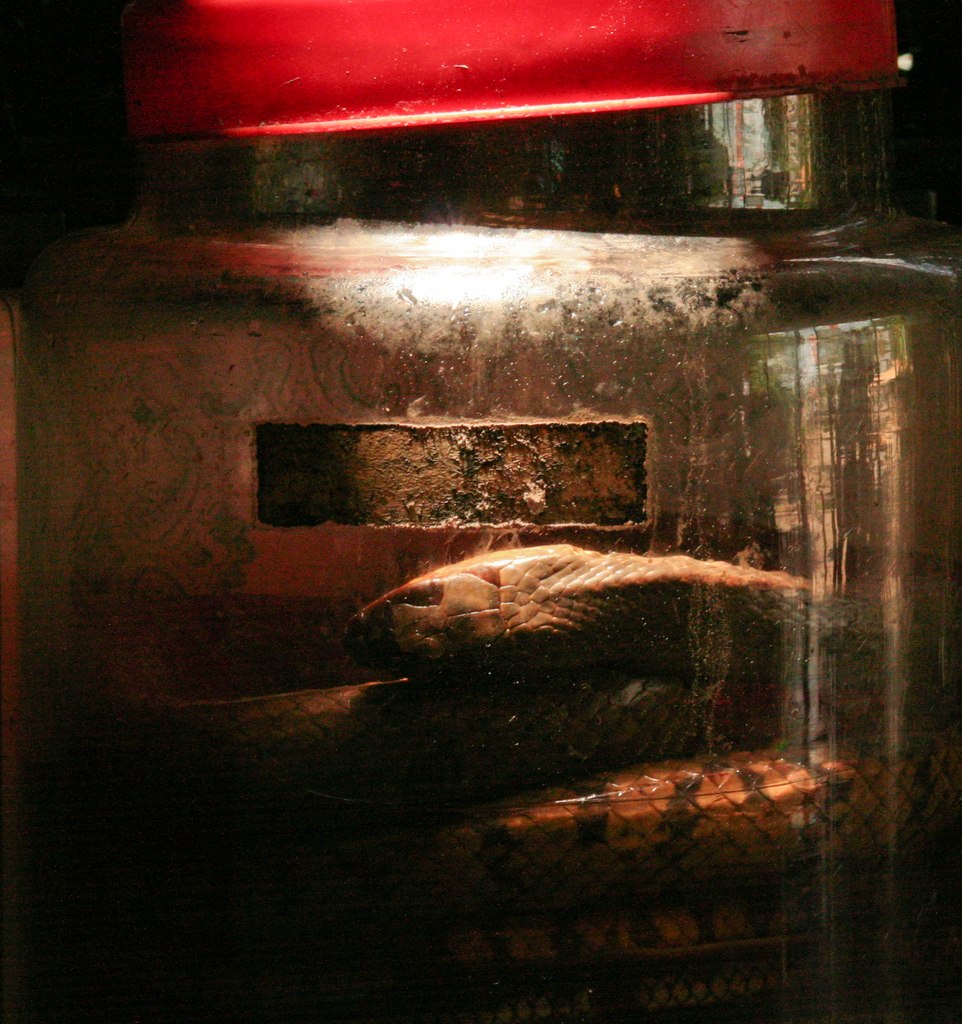Animal: (320, 521, 837, 670)
